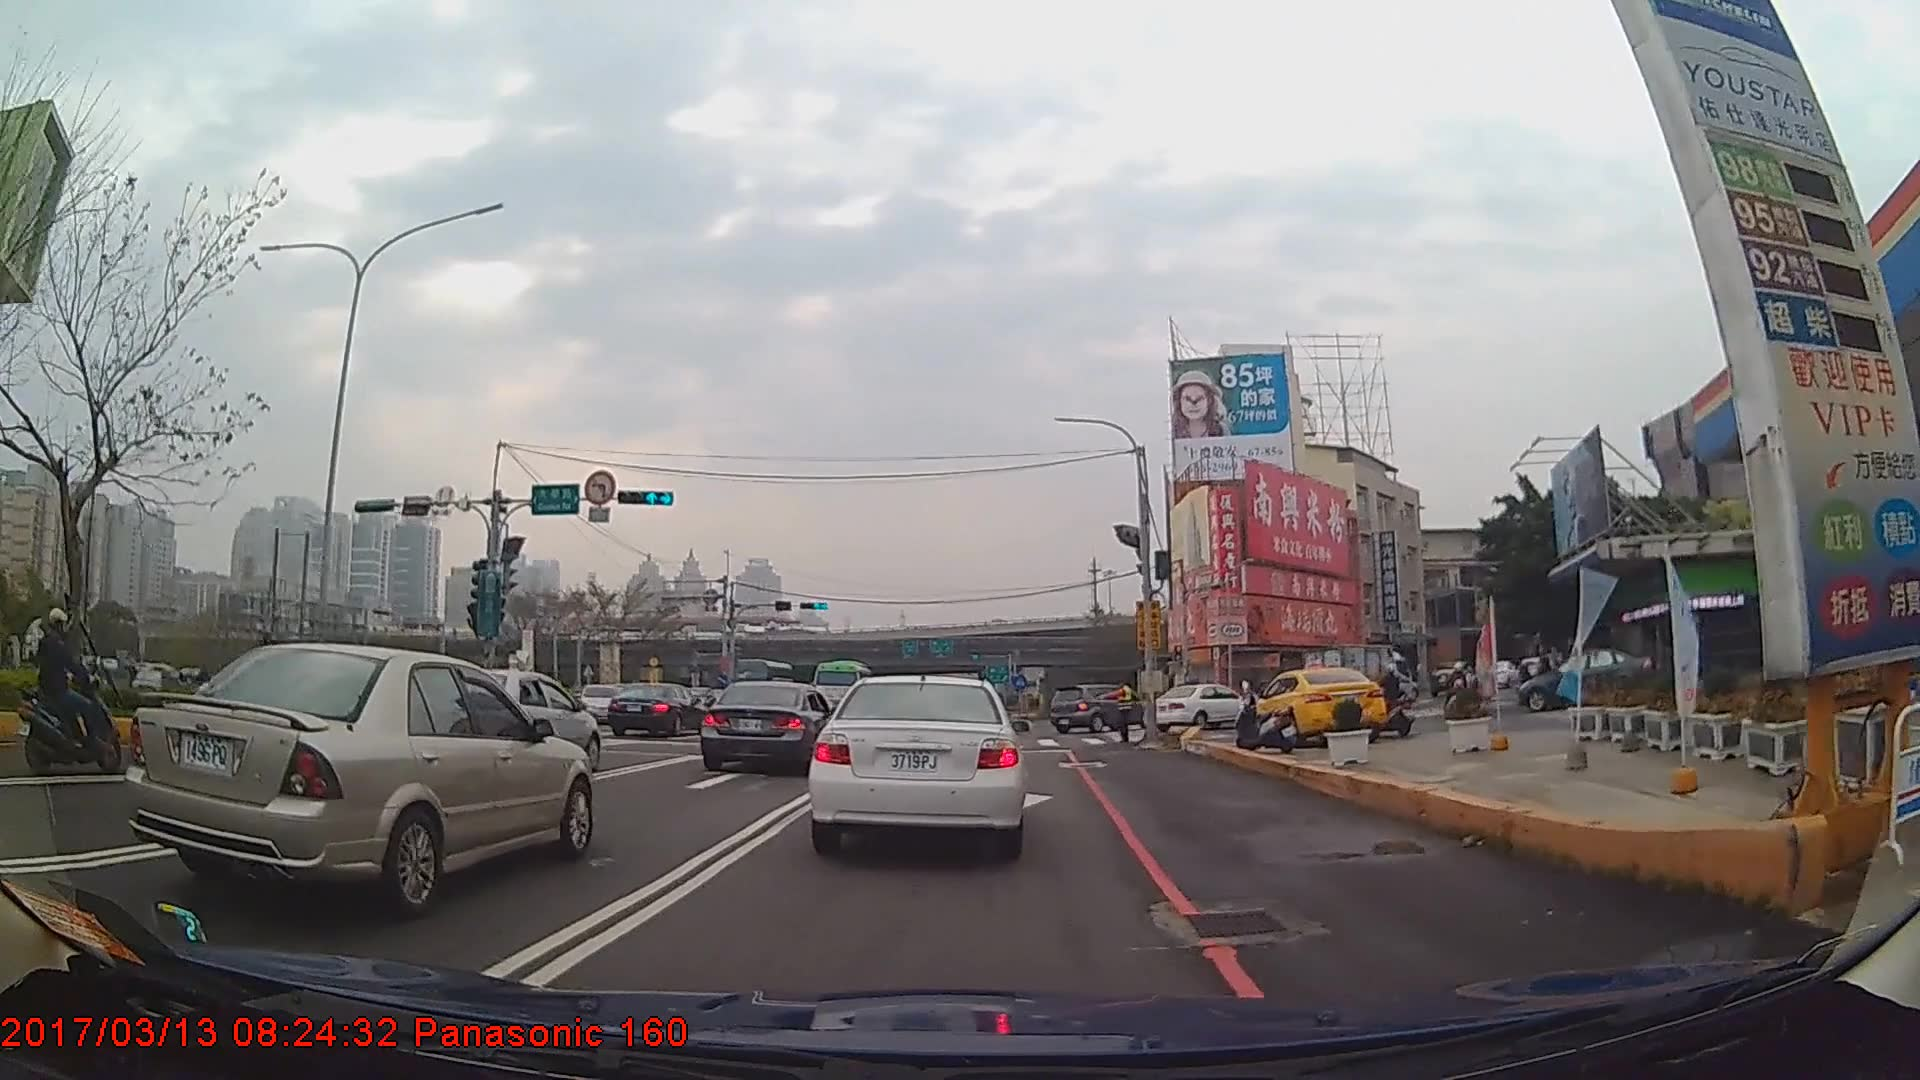pedestrian: (1101, 677, 1133, 745)
rider: (21, 611, 116, 779), (1371, 664, 1414, 739), (1443, 658, 1469, 721)
vehicle: (126, 642, 598, 914), (807, 670, 1024, 857), (696, 678, 837, 775), (1247, 664, 1387, 747), (1513, 649, 1655, 713), (1295, 642, 1412, 712), (1143, 680, 1254, 729), (1046, 682, 1155, 731), (606, 680, 702, 734), (808, 658, 873, 715)
